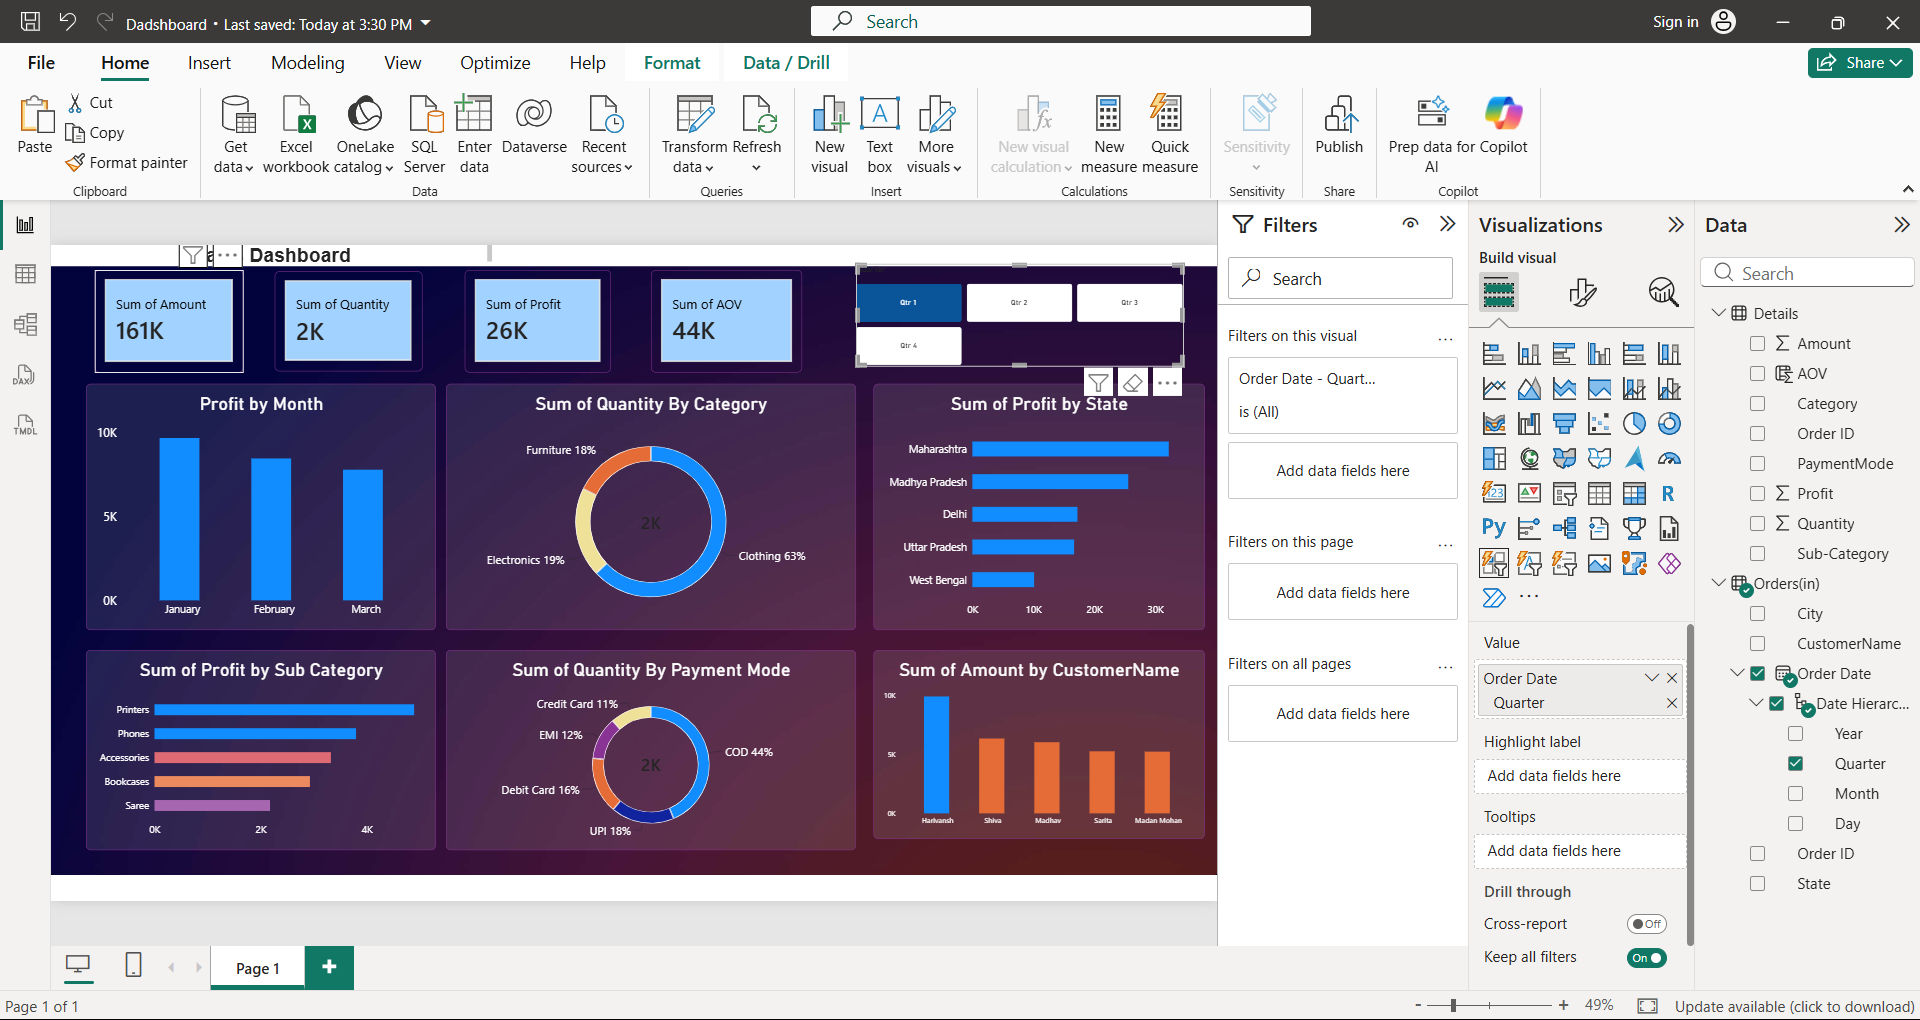

What the dashboard file says about the page in this screenshot:
{"tool":"powerbi","page":{"name":"Page 1","canvas":[1920,1080],"ordinal":0},"visuals":[{"type":"textbox","box":[10.3,0,716.3,30.9],"z":0},{"type":"columnChart","title":"Profit by Month","fields":{"Category":["Orders(in).Order Date.Variation.Date Hierarchy.Month"],"Y":["Sum(Details.Profit)"]},"box":[57.6,228.5,576.3,405.5],"z":1000},{"type":"barChart","title":"Sum of Profit by Sub Category","fields":{"Category":["Details.Sub-Category"],"Y":["Sum(Details.Profit)"]},"box":[57.6,666.9,576.3,329.3],"z":2000},{"type":"donutChart","title":"Sum of Quantity By Category","fields":{"Category":["Details.Category"],"Y":["Sum(Details.Quantity)"]},"box":[650.4,228.5,675.1,405.5],"z":3000},{"type":"donutChart","title":"Sum of Quantity By Payment Mode","fields":{"Category":["Details.PaymentMode"],"Y":["Sum(Details.Quantity)"]},"box":[650.4,666.9,675.1,329.3],"z":4000},{"type":"cardVisual","fields":{"Data":["Sum(Details.Profit)"]},"box":[681.3,41.2,240.8,168.8],"z":5000},{"type":"cardVisual","fields":{"Data":["Sum(Details.Quantity)"]},"box":[368.4,43.2,242.9,164.7],"z":6000},{"type":"cardVisual","fields":{"Data":["Sum(Details.Amount)"]},"box":[72,41.2,244.9,168.8],"z":7000},{"type":"cardVisual","fields":{"Data":["Sum(Details.AOV)"]},"box":[988,41.2,249.1,168.8],"z":8000},{"type":"barChart","title":"Sum of Profit by State","fields":{"Category":["Orders(in).State"],"Y":["Sum(Details.Amount)"]},"box":[1354.4,228.5,545.5,405.5],"z":9000},{"type":"columnChart","fields":{"Category":["Orders(in).CustomerName"],"Y":["Sum(Details.Amount)"]},"box":[1354.4,666.9,545.5,310.8],"z":10000},{"type":"advancedSlicerVisual","fields":{"Values":["Orders(in).Order Date.Variation.Date Hierarchy.Quarter"]},"box":[1325.6,30.9,539.3,168.8],"z":12000}]}

Visuals, with their boxes on the page's 1920x1080 design canvas (x1, y1, x2, y2). These are canvas units, not pixel positions in the 1920x1020 screenshot, which may show the page scaled, cropped or inside an application window:
textbox: [x1=10, y1=0, x2=727, y2=31]
"Profit by Month" columnChart: [x1=58, y1=228, x2=634, y2=634]
"Sum of Profit by Sub Category" barChart: [x1=58, y1=667, x2=634, y2=996]
"Sum of Quantity By Category" donutChart: [x1=650, y1=228, x2=1326, y2=634]
"Sum of Quantity By Payment Mode" donutChart: [x1=650, y1=667, x2=1326, y2=996]
cardVisual - Sum(Details.Profit): [x1=681, y1=41, x2=922, y2=210]
cardVisual - Sum(Details.Quantity): [x1=368, y1=43, x2=611, y2=208]
cardVisual - Sum(Details.Amount): [x1=72, y1=41, x2=317, y2=210]
cardVisual - Sum(Details.AOV): [x1=988, y1=41, x2=1237, y2=210]
"Sum of Profit by State" barChart: [x1=1354, y1=228, x2=1900, y2=634]
columnChart - Orders(in).CustomerName x Sum(Details.Amount): [x1=1354, y1=667, x2=1900, y2=978]
advancedSlicerVisual - Orders(in).Order Date.Variation.Date Hierarchy.Quarter: [x1=1326, y1=31, x2=1865, y2=200]
